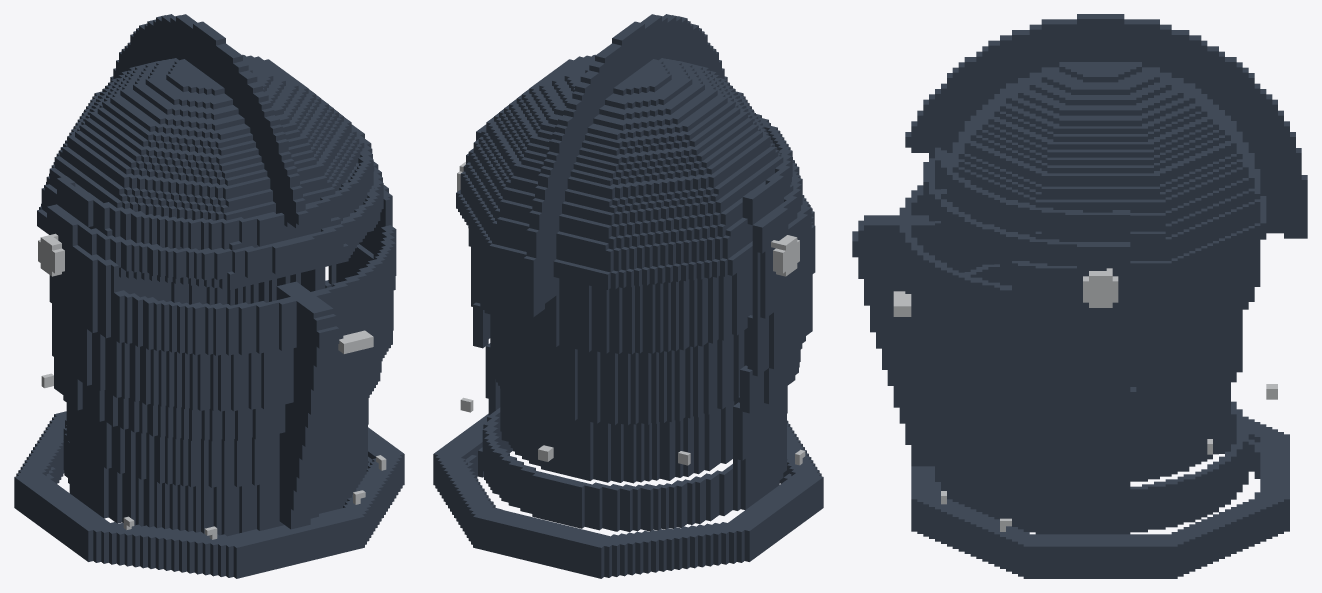
The model's file is hc_heavyhelm_close.glb.
3 renders of one model, left to right at view 1: azimuth 30°, elevation 25°; view 2: azimuth 150°, elevation 25°; view 3: azimuth 270°, elevation 25°, orthographic. The views are drawn at different scales.
Parts seen in each view (by area): view 1: hc_heavyhelm_close:compound; view 2: hc_heavyhelm_close:compound; view 3: hc_heavyhelm_close:compound.
Boxes of the visible parts, x1=… form: hc_heavyhelm_close:compound: x1=14, y1=14, x2=404, y2=578; hc_heavyhelm_close:compound: x1=433, y1=14, x2=823, y2=578; hc_heavyhelm_close:compound: x1=852, y1=14, x2=1307, y2=578.
Size of the model in its own units: 0.264 by 0.36 by 0.308.
